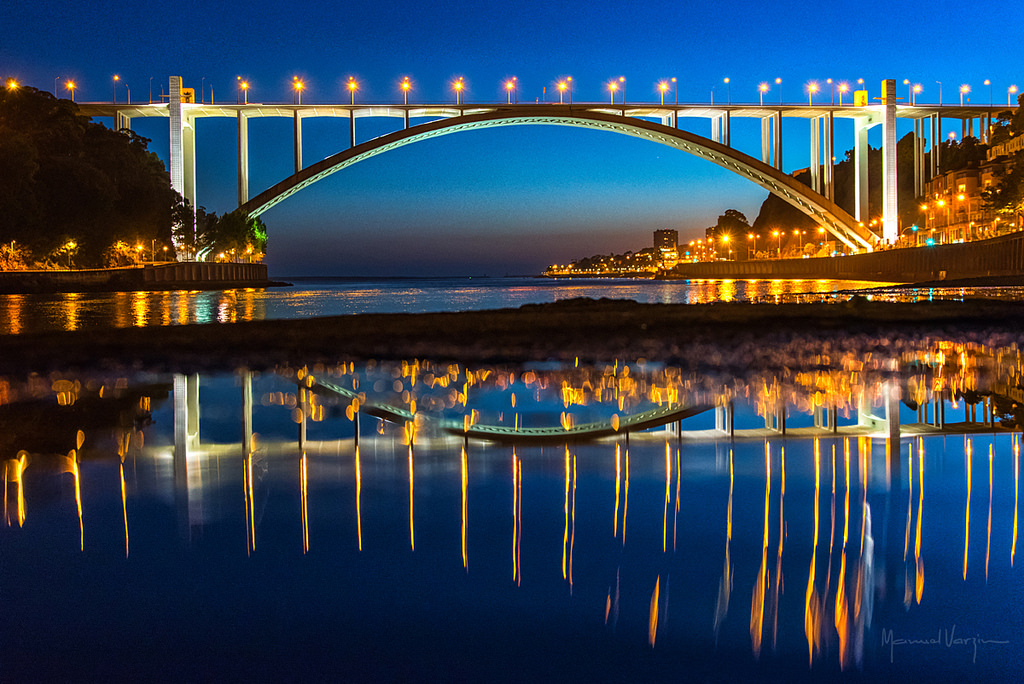arrabida: (68, 74, 1023, 256)
